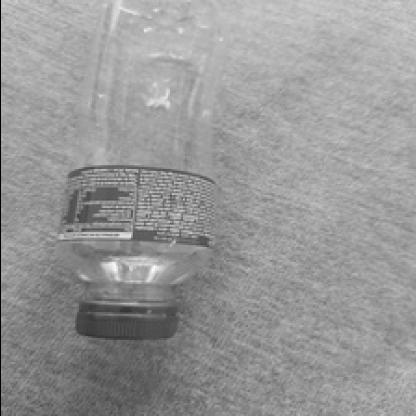plastic_bottles: (52, 3, 226, 362)
